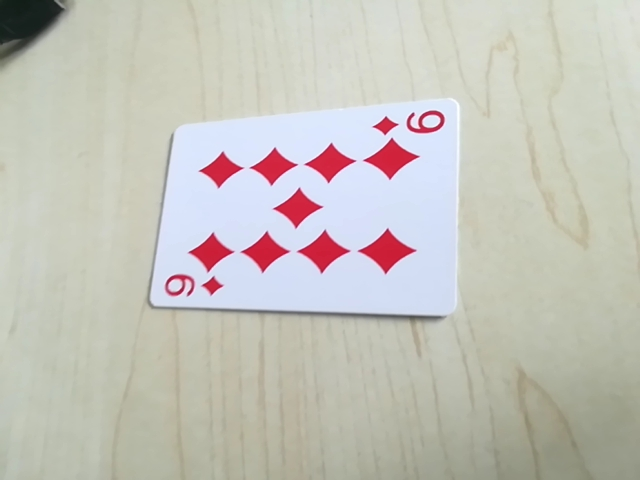fk 9: (371, 105, 451, 143), (159, 270, 227, 304)
